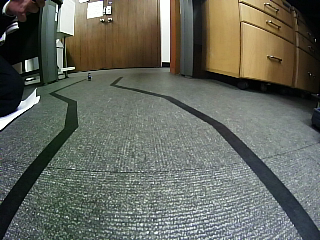person: (87, 73, 92, 81)
